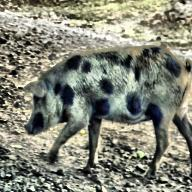boar: (16, 45, 192, 180)
